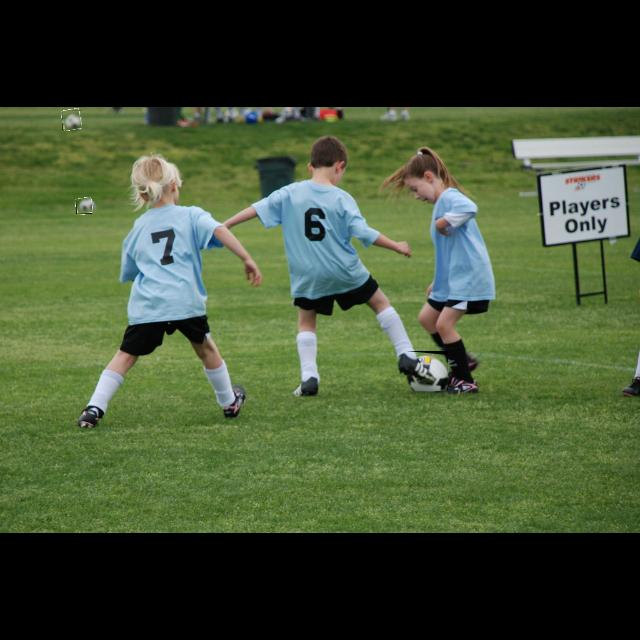Football: (406, 351, 448, 391), (62, 110, 82, 130), (76, 198, 92, 214)
